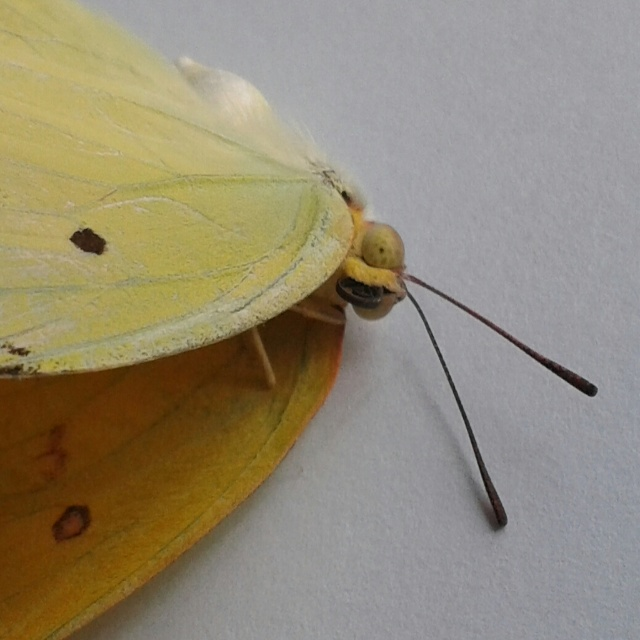Butterfly: (0, 0, 599, 639)
